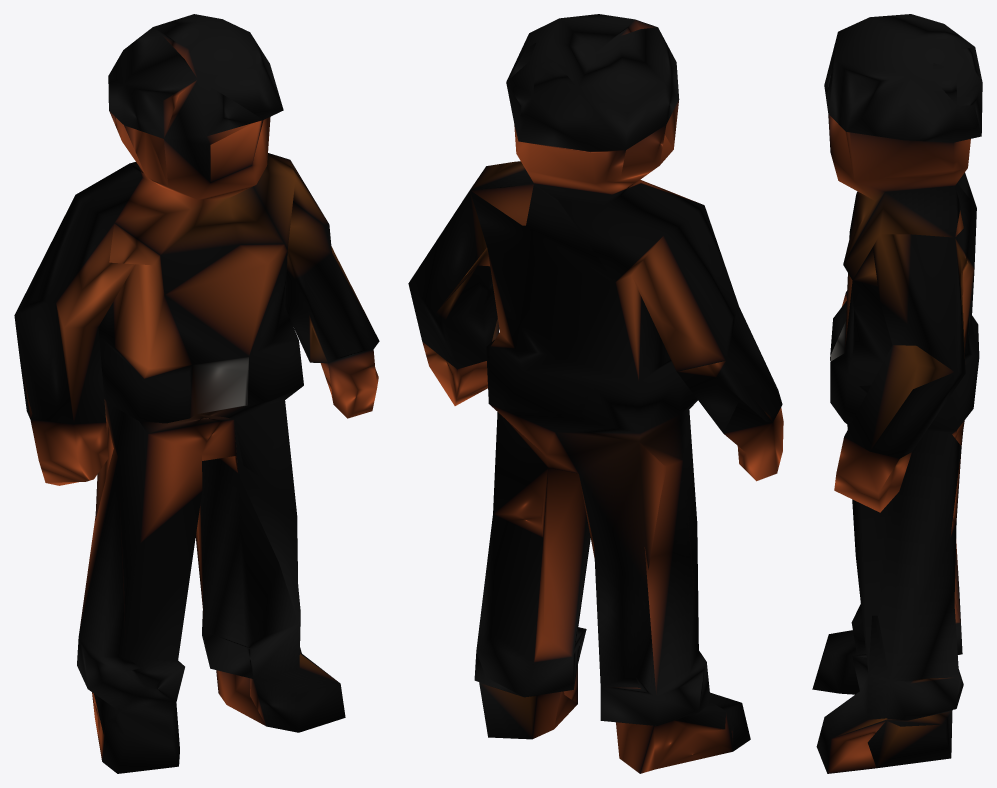
Rendered from gen3d-thief-lod1.glb.
The picture shows the model from 3 angles, left to right: view 1: azimuth 30°, elevation 25°; view 2: azimuth 150°, elevation 25°; view 3: azimuth 270°, elevation 25°; orthographic projection. The views are drawn at different scales.
Visible parts, largest first — view 1: part_0; view 2: part_0; view 3: part_0.
Boxes of the visible parts, x1,y1,x2,y2 form: part_0: [14, 14, 379, 773]; part_0: [408, 14, 783, 773]; part_0: [812, 14, 982, 773].
Bounding box in the file's own units: 0.515 × 0.9979 × 0.2218.
